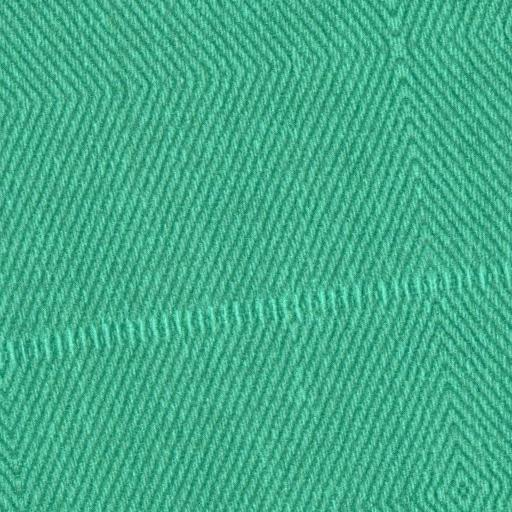slub: (0, 260, 510, 386)
